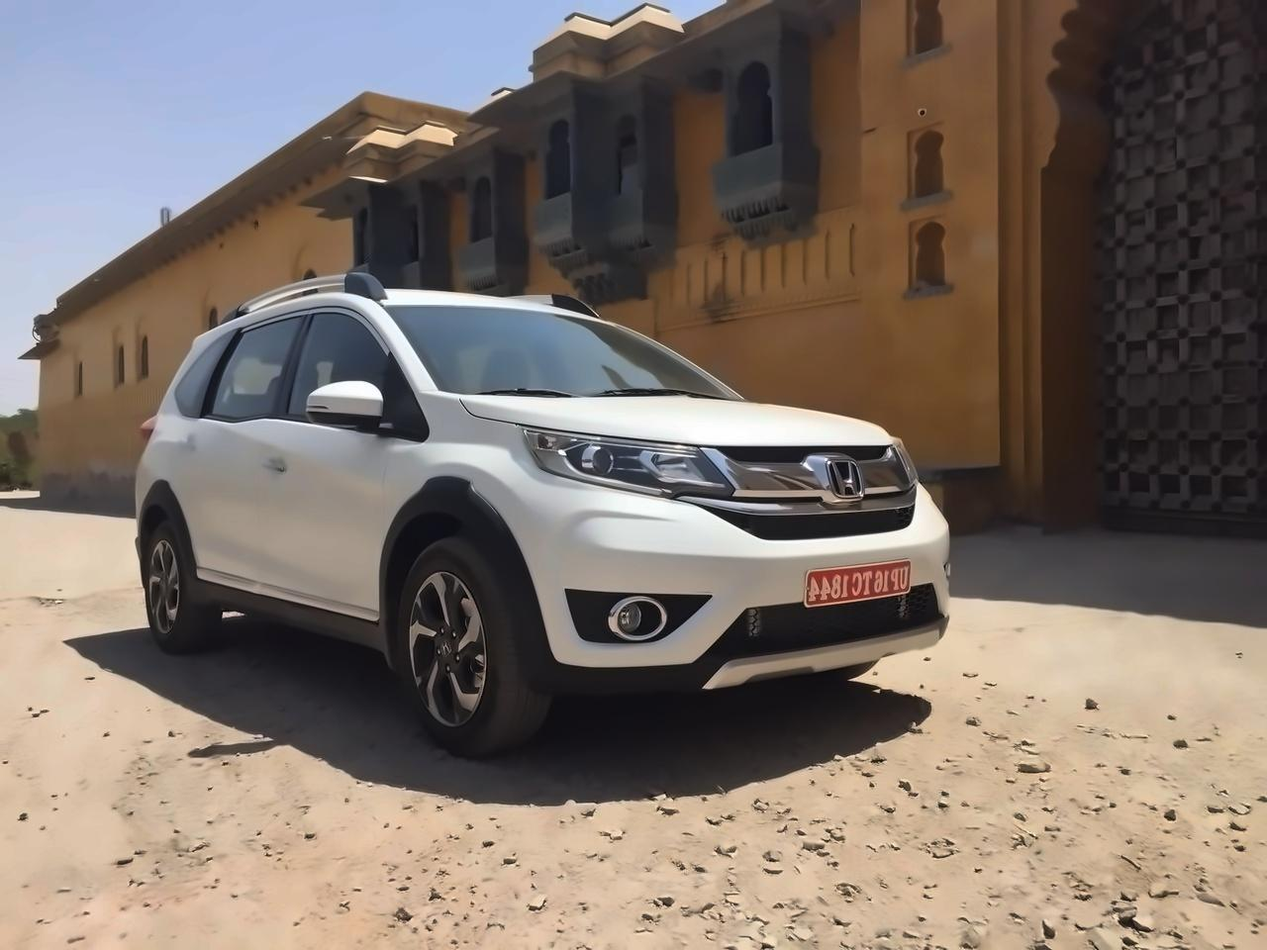Car hood: (455, 392, 899, 451)
Driver-s door - -F-R-: (265, 297, 376, 631)
Fender - -F-R-: (375, 385, 527, 629)
Fender - -R-R-: (146, 412, 184, 538)
Front bumper: (512, 486, 967, 703)
Headlight - -L-: (885, 428, 922, 489)
Headlight - -R-: (515, 417, 743, 503)
Passenger-s door - -R-R-: (182, 302, 297, 616)
Rear bumper: (130, 455, 155, 569)
Rear light - -R-: (133, 400, 163, 451)
Side bumper - -R-: (180, 561, 397, 664)
Side mirror - -R-: (301, 372, 393, 443)
